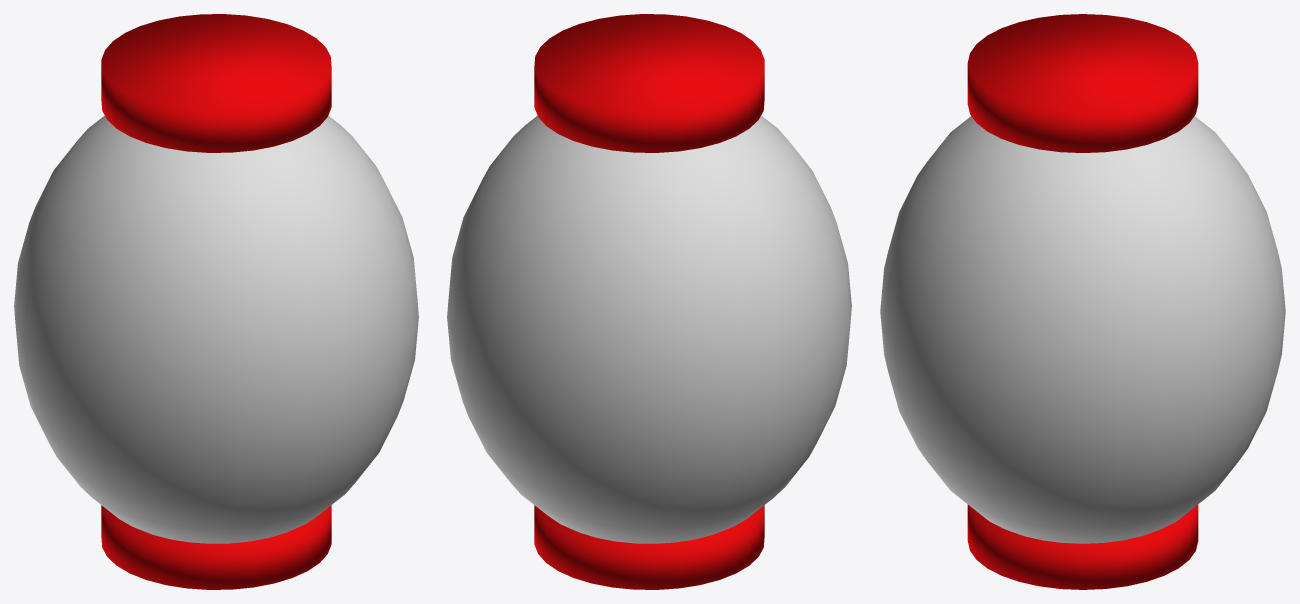
The model's file is powerupcapsule.fbx.
3 views of the same model, side by side, from view 1: azimuth 30°, elevation 25°; view 2: azimuth 150°, elevation 25°; view 3: azimuth 270°, elevation 25° (orthographic).
Parts seen in each view (by area): view 1: Cylinder; view 2: Cylinder; view 3: Cylinder.
Part boxes in pixels (x1,y1,x2,y2): Cylinder: (14,14,418,589); Cylinder: (447,14,851,589); Cylinder: (880,14,1285,589).
Size of the model in its own units: 352 by 458 by 352.
